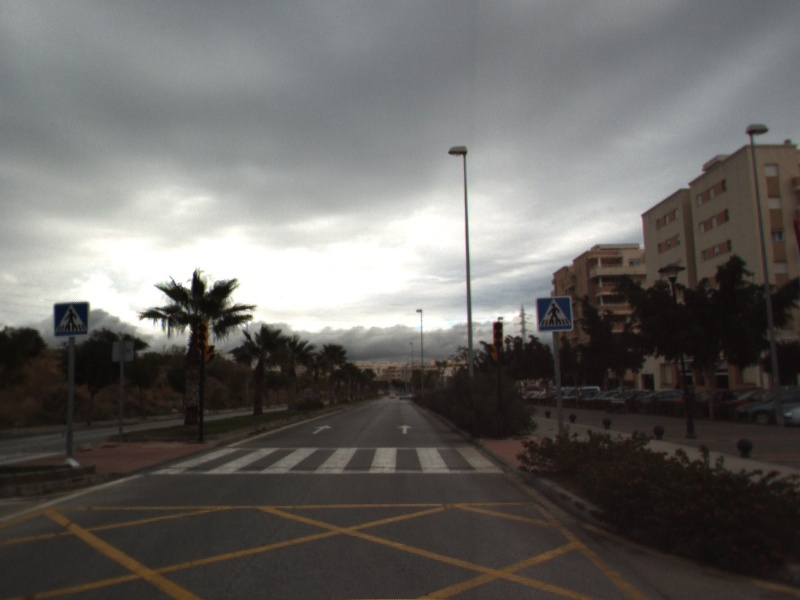STRAIGHT: (310, 423, 334, 436), (396, 422, 415, 436)
